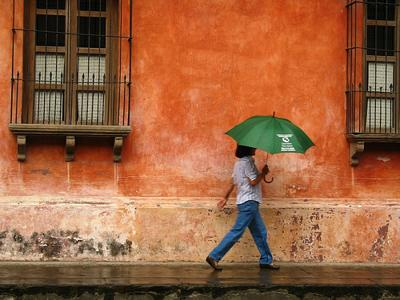person: (206, 144, 281, 270)
